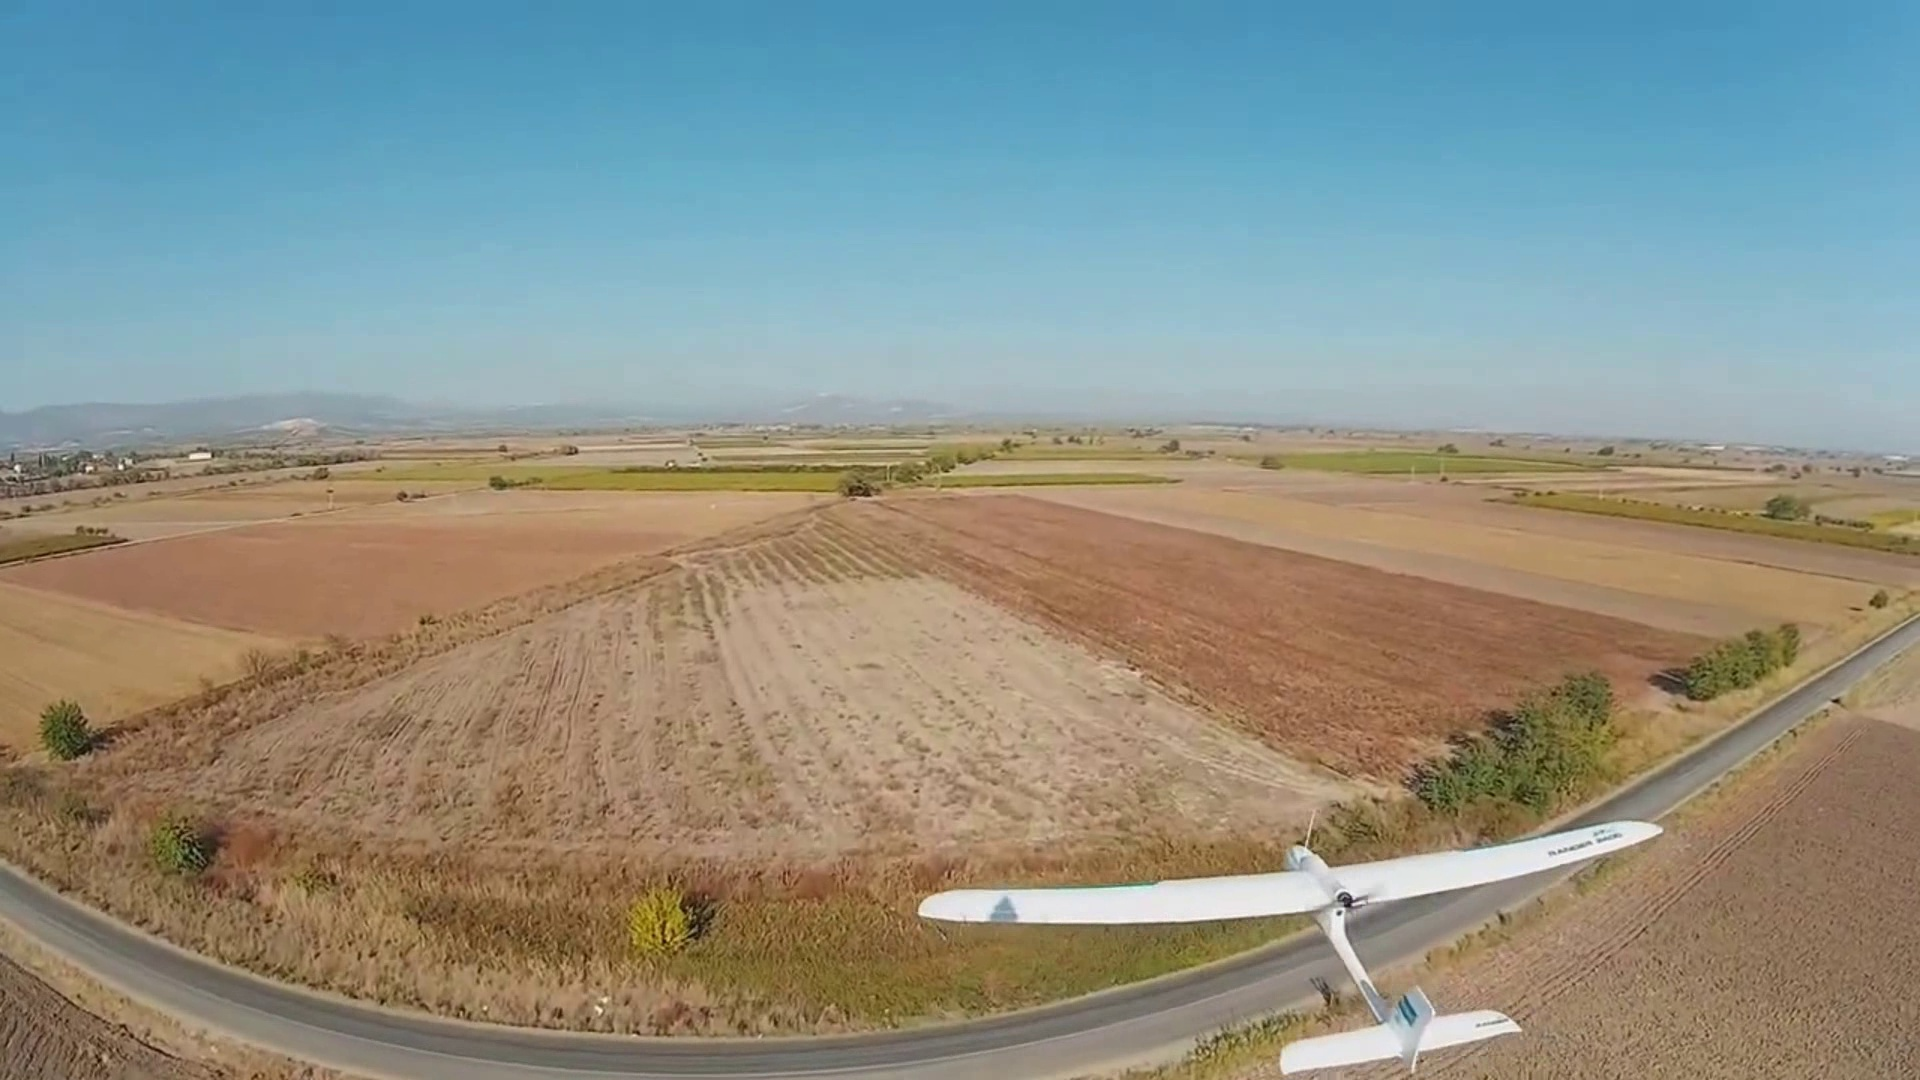airplane: (915, 600, 1917, 1069)
